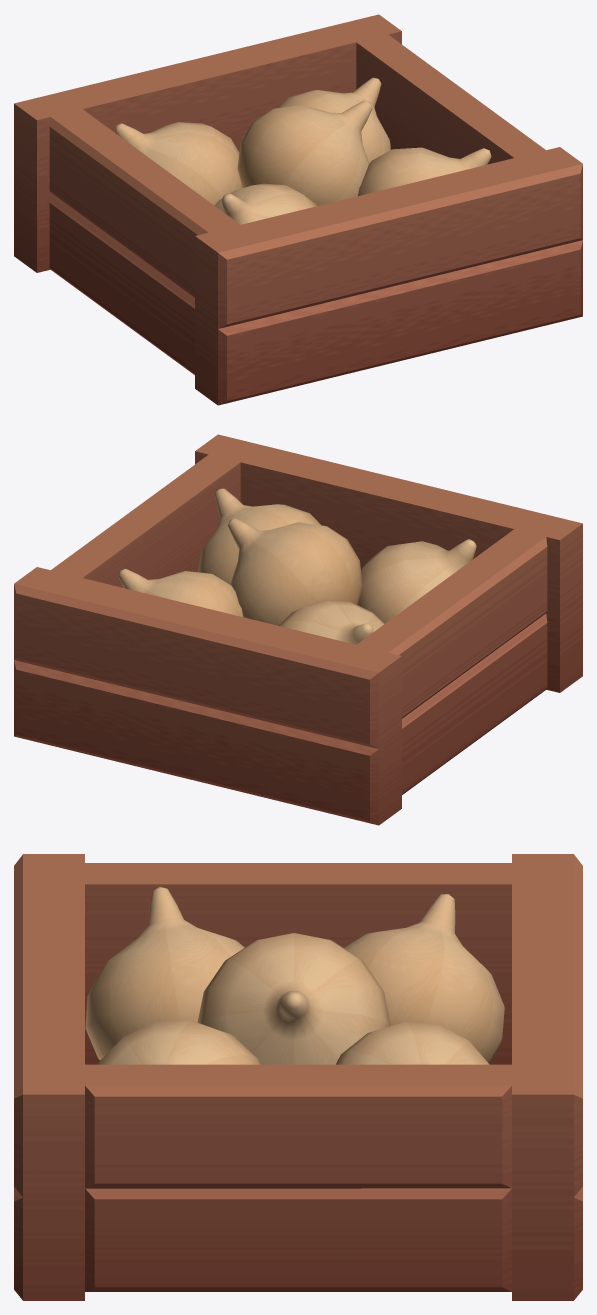
Rendered from crate_onions.gltf.
The picture shows the model from 3 angles, top to bottom: view 1: azimuth 30°, elevation 25°; view 2: azimuth 150°, elevation 25°; view 3: azimuth 270°, elevation 25°; orthographic projection. The views are drawn at different scales.
Parts seen in each view (by area): view 1: crate_onions; view 2: crate_onions; view 3: crate_onions.
Boxes of the visible parts, x1,y1,x2,y2 form: crate_onions: (14,14,582,405); crate_onions: (14,434,582,825); crate_onions: (14,854,582,1300).
Size of the model in its own units: 2 by 0.9234 by 2.
1 material, 1 textured.
